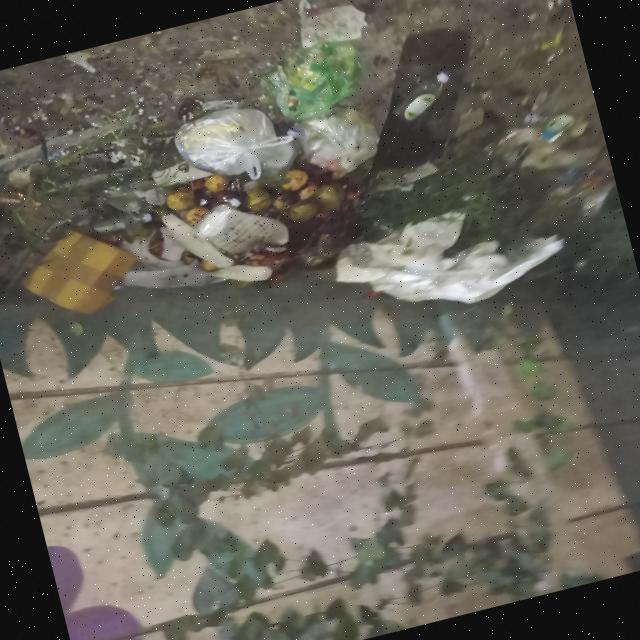garbage: (0, 0, 582, 402)
